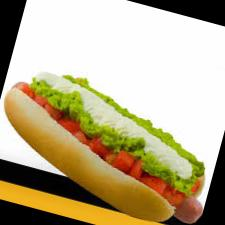Completos: (0, 54, 224, 225)
